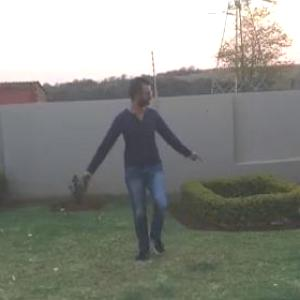land: (62, 64, 220, 284)
